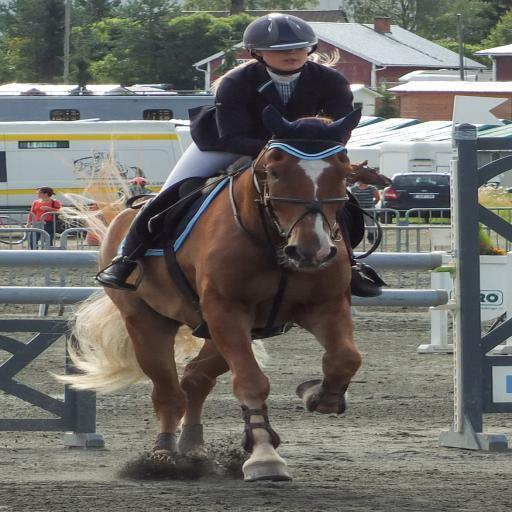horse: (40, 106, 390, 480)
